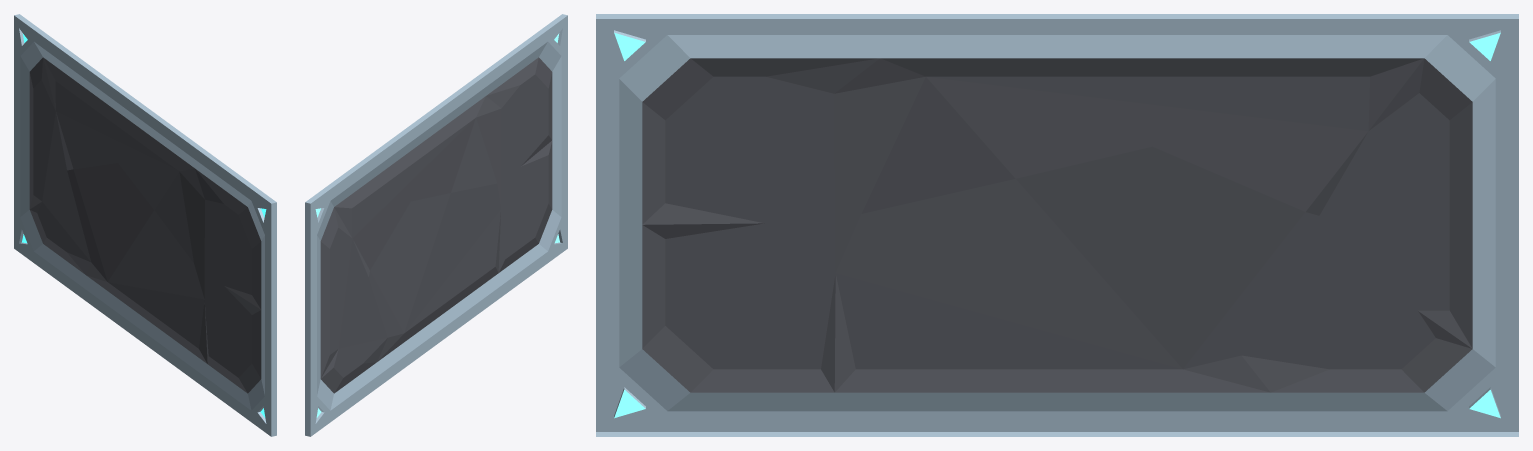
Rendered from Wall_Medium_Short.fbx.
The picture shows the model from 3 angles, left to right: view 1: azimuth 30°, elevation 25°; view 2: azimuth 150°, elevation 25°; view 3: azimuth 270°, elevation 25°; orthographic projection. The views are drawn at different scales.
Parts seen in each view (by area): view 1: Wall_Medium_Short; view 2: Wall_Medium_Short; view 3: Wall_Medium_Short.
Part boxes in pixels (<box>): Wall_Medium_Short: <box>14,14,276,436</box>; Wall_Medium_Short: <box>305,14,567,436</box>; Wall_Medium_Short: <box>596,14,1518,436</box>.
Bounding box in the file's own units: 0.1601 × 4 × 8.
